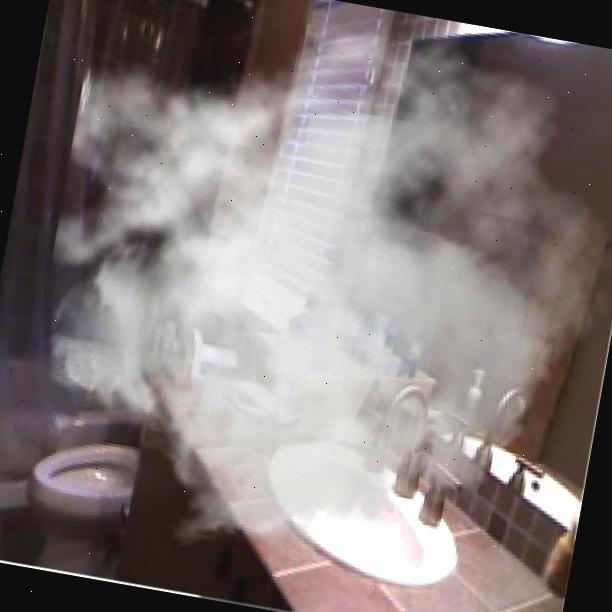smoke: (6, 0, 612, 612)
